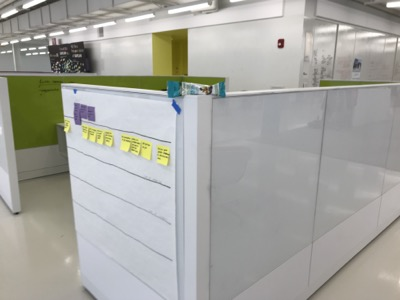trail mix: (165, 79, 226, 99)
